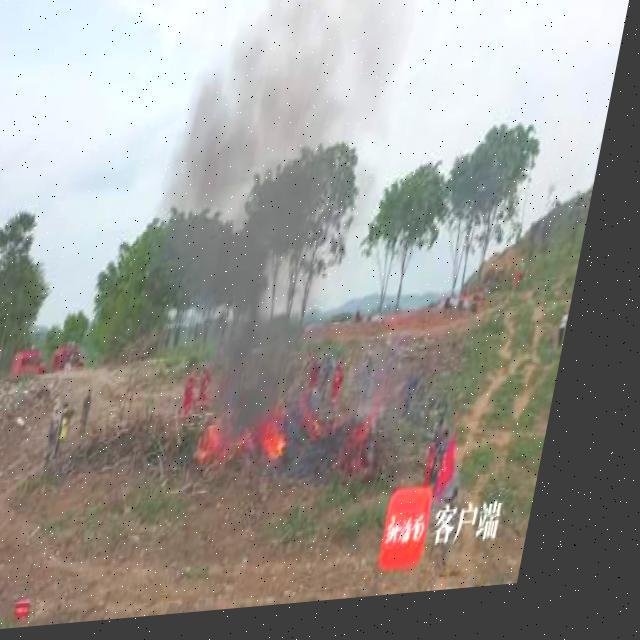Fire: (212, 406, 316, 480)
